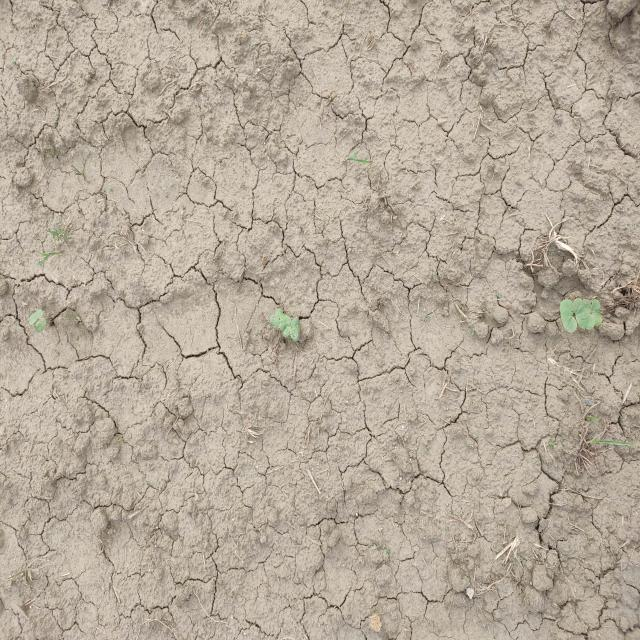seedling: (560, 299, 577, 333), (573, 298, 589, 329), (583, 299, 595, 329), (591, 299, 602, 326), (29, 309, 45, 325), (290, 317, 300, 342), (270, 315, 286, 330), (34, 318, 46, 333), (283, 317, 292, 337), (275, 309, 288, 322)
